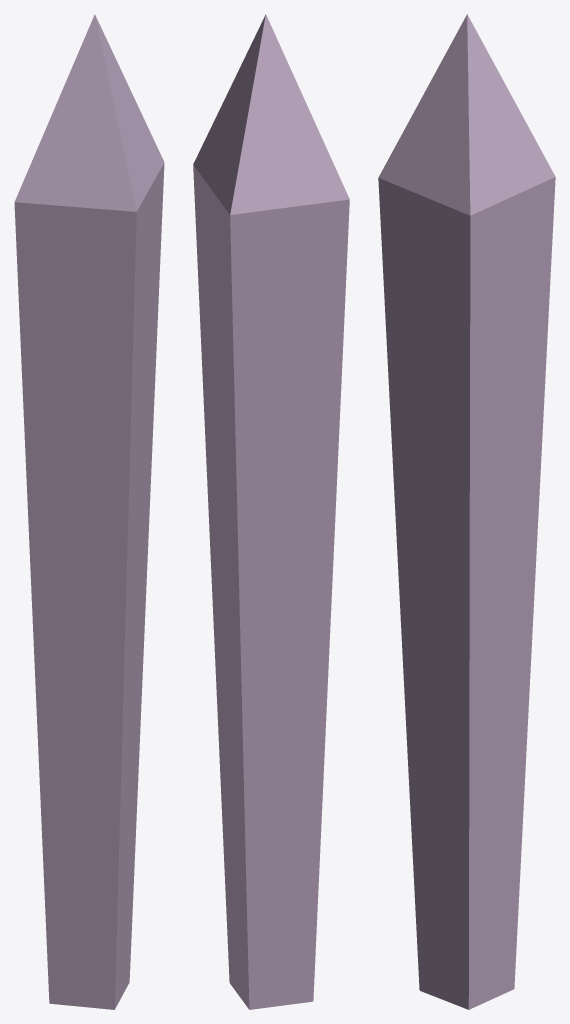
The model's file is CrystalTall.fbx.
3 views of the same model, side by side, from view 1: azimuth 30°, elevation 25°; view 2: azimuth 150°, elevation 25°; view 3: azimuth 270°, elevation 25° (orthographic).
Visible parts, largest first — view 1: CrystalTall1; view 2: CrystalTall1; view 3: CrystalTall1.
Part boxes in pixels (x1,y1,x2,y2): CrystalTall1: (14,14,164,1009); CrystalTall1: (193,14,349,1009); CrystalTall1: (378,14,555,1009).
Bounding box in the file's own units: 0.8142 × 4.96 × 0.8142.
